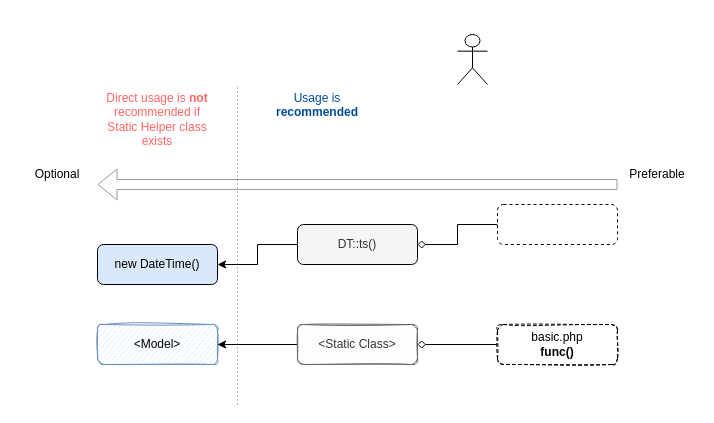
Some shapes in this 714 by 423 pixel diagram are drawn without their labels. Here are the shapes that lost their labels. From the top down, the centre of each, then its label:
At [472,59]: "Developer".
At [557,224]: "ts()".
